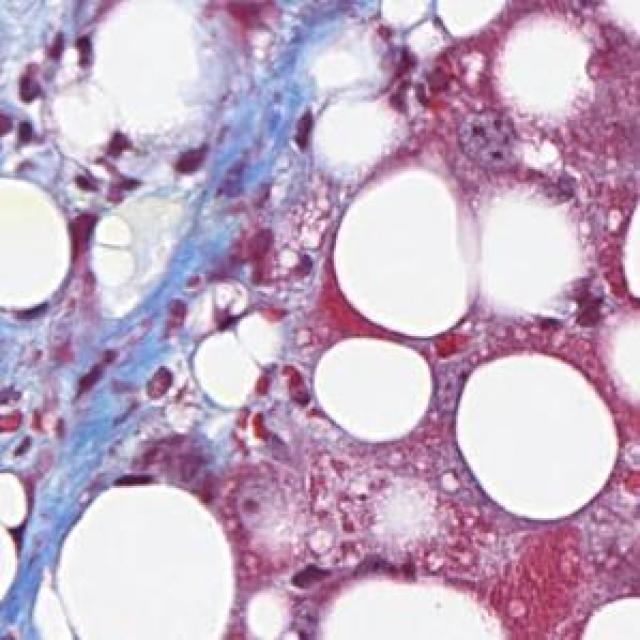inflammation: (7, 24, 112, 109), (62, 126, 165, 212)
